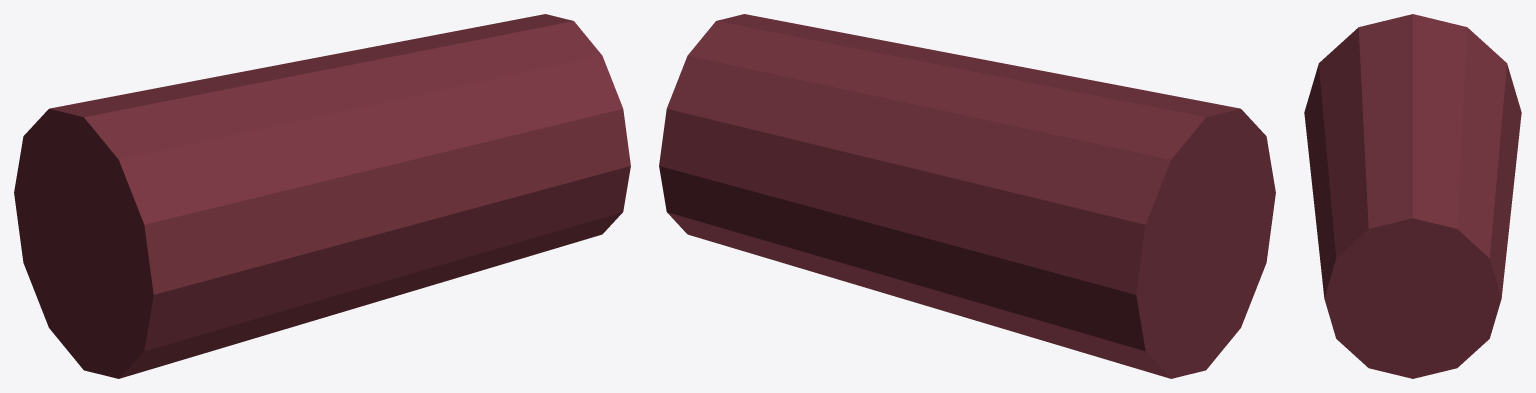
The model's file is SinCuffRight.fbx.
3 renders of one model, left to right at view 1: azimuth 30°, elevation 25°; view 2: azimuth 150°, elevation 25°; view 3: azimuth 270°, elevation 25°, orthographic. The views are drawn at different scales.
Visible parts, largest first — view 1: SinCuffRight; view 2: SinCuffRight; view 3: SinCuffRight.
Part boxes in pixels (bbox=[...]): SinCuffRight: bbox=[14, 14, 630, 378]; SinCuffRight: bbox=[659, 14, 1275, 378]; SinCuffRight: bbox=[1304, 14, 1521, 378].
Size of the model in its own units: 15.4 by 7.6 by 7.6.
